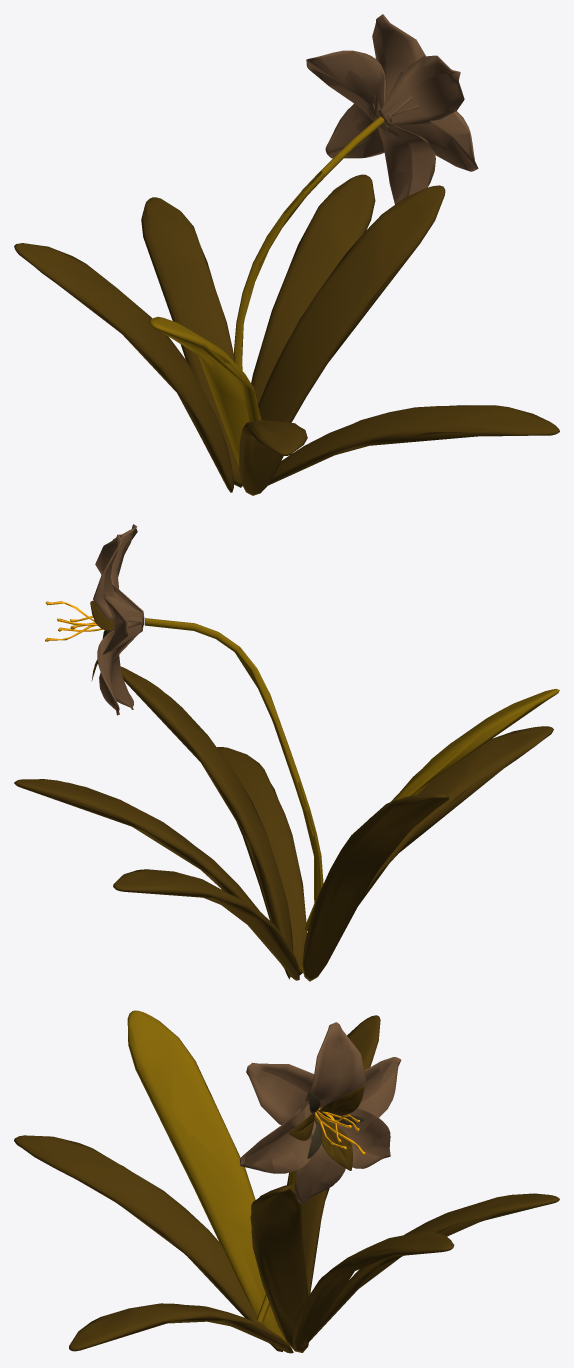
The model's file is flor_MARCHITA.fbx.
3 views of the same model, one above another, from view 1: azimuth 30°, elevation 25°; view 2: azimuth 150°, elevation 25°; view 3: azimuth 270°, elevation 25° (orthographic). The views are drawn at different scales.
Parts seen in each view (by area): view 1: Cubo.735, Cubo.733, Cubo.719, Cubo.738, Cubo.740, Cubo.712, PetaloGrande4.002, Cubo.734, PetaloGrande6.002, PetaloGrande2.002, Plano.012, PetaloGrande3.002 (+2 smaller); view 2: Cubo.733, Cubo.735, Cubo.740, Cubo.719, Cubo.734, Cubo.738, Cubo.712, Plano.012, PetaloGrande5.002, PetaloGrande6.002, PetaloGrande1.002, PetaloGrande4.002 (+1 smaller); view 3: Cubo.712, Cubo.734, Cubo.735, Cubo.740, Cubo.719, Cubo.738, PetaloGrande5.002, PetaloGrande4.002, PetaloGrande3.002, Cubo.733, PetaloGrande1.002, PetaloGrande6.002 (+3 smaller).
Part boxes in pixels (<box>): Cubo.735: <box>258,185,445,422</box>; Cubo.733: <box>14,243,233,492</box>; Cubo.719: <box>251,174,375,404</box>; Cubo.738: <box>141,197,242,487</box>; Cubo.740: <box>268,405,559,485</box>; Cubo.712: <box>149,316,261,466</box>; PetaloGrande4.002: <box>377,55,464,127</box>; Cubo.734: <box>239,420,307,495</box>; PetaloGrande6.002: <box>306,50,385,127</box>; PetaloGrande2.002: <box>378,125,435,204</box>; Plano.012: <box>234,117,384,370</box>; PetaloGrande3.002: <box>381,105,478,171</box>; Cubo.733: <box>302,794,448,981</box>; Cubo.735: <box>120,666,293,979</box>; Cubo.740: <box>217,747,307,974</box>; Cubo.719: <box>14,779,259,910</box>; Cubo.734: <box>303,726,553,973</box>; Cubo.738: <box>113,869,299,980</box>; Cubo.712: <box>301,689,559,972</box>; Plano.012: <box>145,618,323,930</box>; PetaloGrande5.002: <box>93,534,143,627</box>; PetaloGrande6.002: <box>102,595,142,654</box>; PetaloGrande1.002: <box>97,618,142,715</box>; PetaloGrande4.002: <box>110,524,144,624</box>; Cubo.712: <box>127,1010,286,1341</box>; Cubo.734: <box>14,1135,282,1351</box>; Cubo.735: <box>250,1184,308,1352</box>; Cubo.740: <box>69,1303,293,1353</box>; Cubo.719: <box>292,1231,454,1348</box>; Cubo.738: <box>306,1193,559,1342</box>; PetaloGrande5.002: <box>305,1022,366,1103</box>; PetaloGrande4.002: <box>246,1062,324,1129</box>; PetaloGrande3.002: <box>240,1103,312,1173</box>; Cubo.733: <box>287,1015,380,1296</box>; PetaloGrande1.002: <box>319,1107,390,1168</box>; PetaloGrande6.002: <box>319,1057,401,1117</box>.
Bounding box in the file's own units: 1320 × 1303 × 1596.
